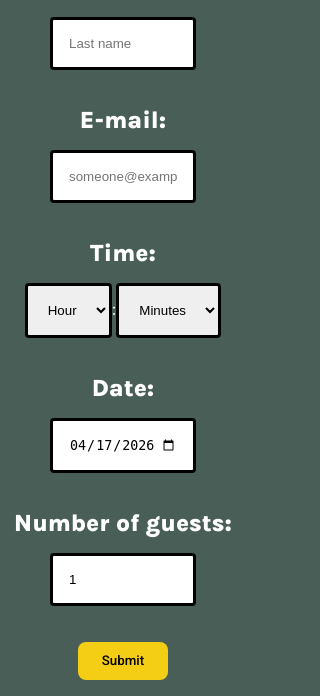
it: missing text test › check last name error
The width and height of the screenshot is (320, 696).
(page scrolled)
What coordinates should you click on to do the following:
click the button "Submit"
I would click on:
 (123, 661)
Its box is [78,642,168,680].
(page scrolled)
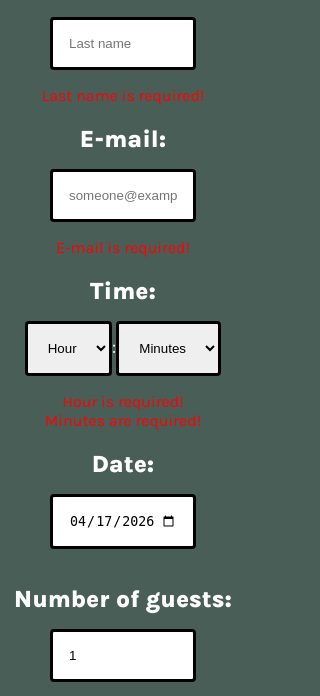
Now the text "Last name is required!" is shown, box [42,86,204,105]
